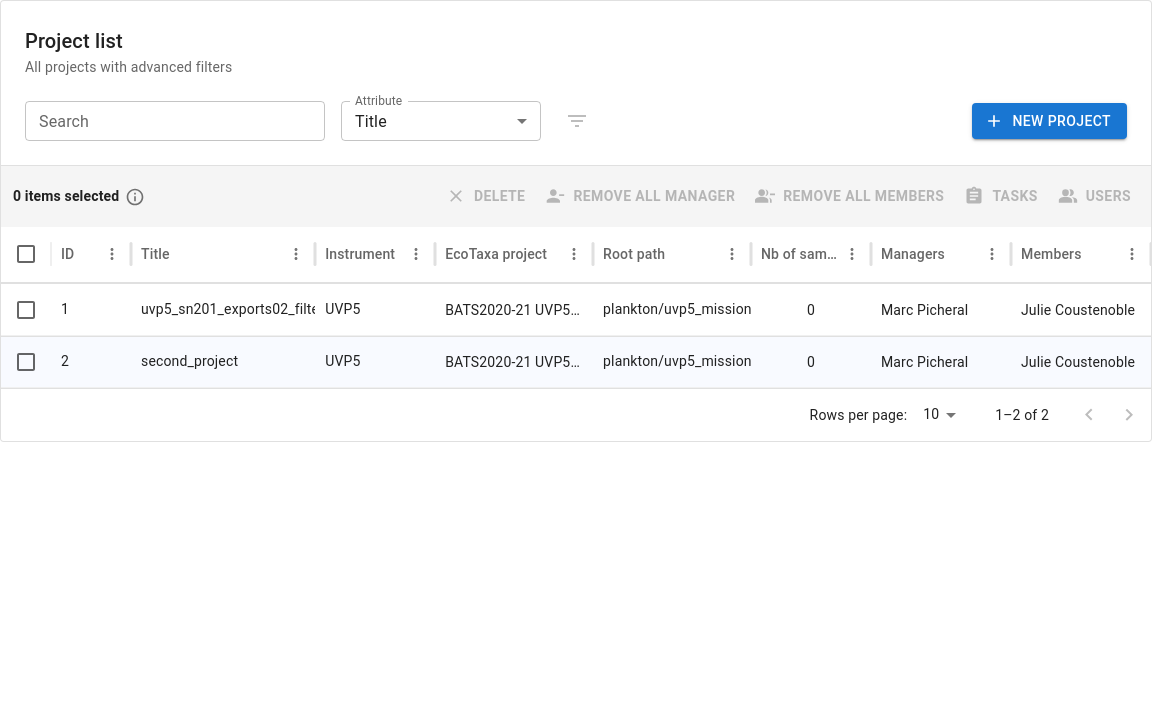
AdminProjectsTab › TC-AG8: deletes the selection after confirmation
Expected: the text "second_project" is shown, [131, 336, 315, 388]
Click the checkbox named "Select row".
click(26, 310)  # box [14, 298, 38, 322]
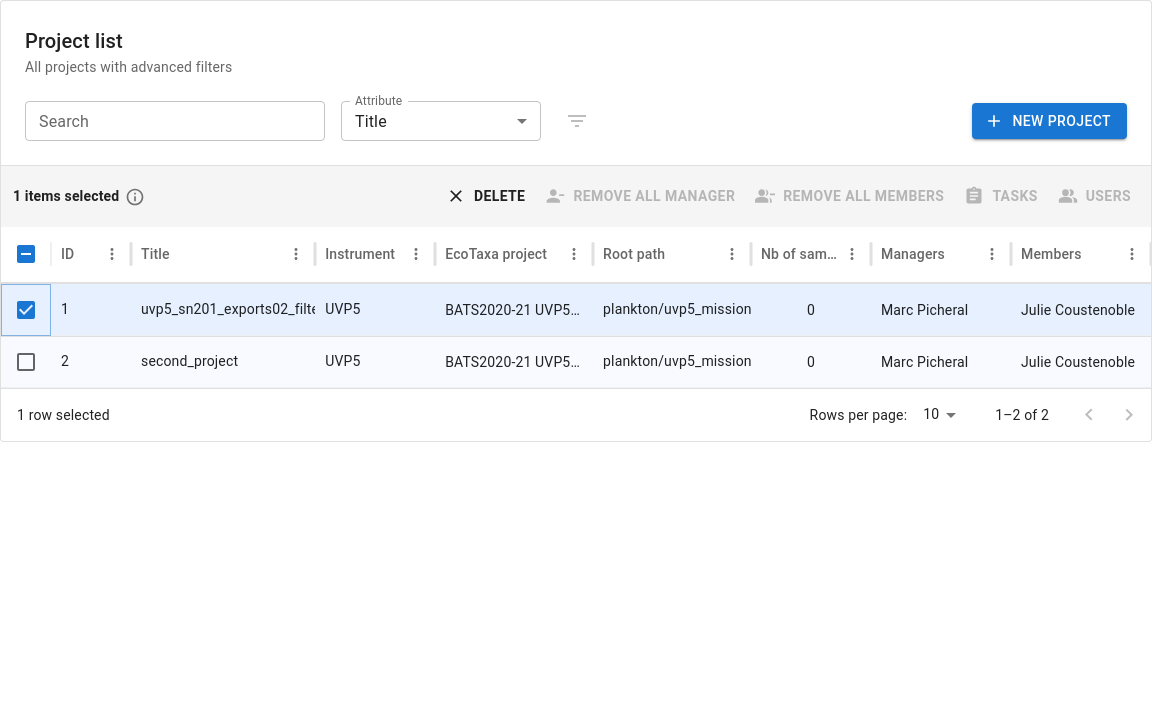
Click the checkbox named "Select row".
click(26, 362)  # box [14, 350, 38, 374]
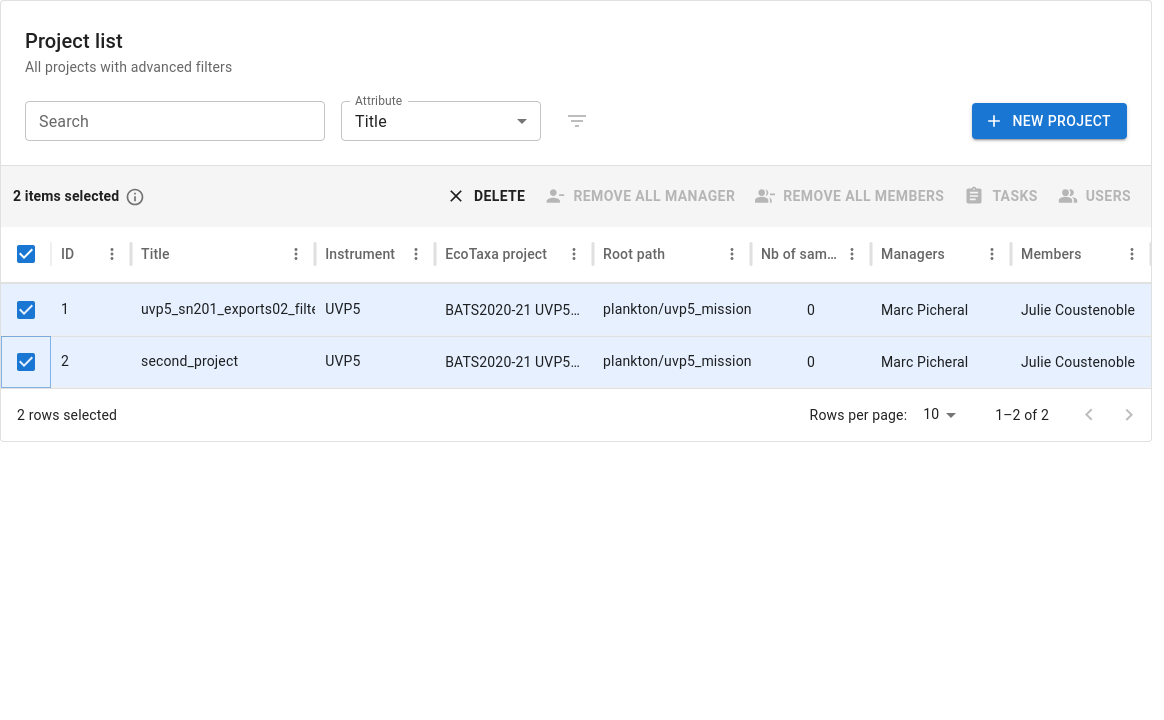
Result: the text "2 items selected" is shown at [13, 186, 145, 207]
Click the button "DELETE".
click(488, 196)  # box [442, 178, 533, 214]
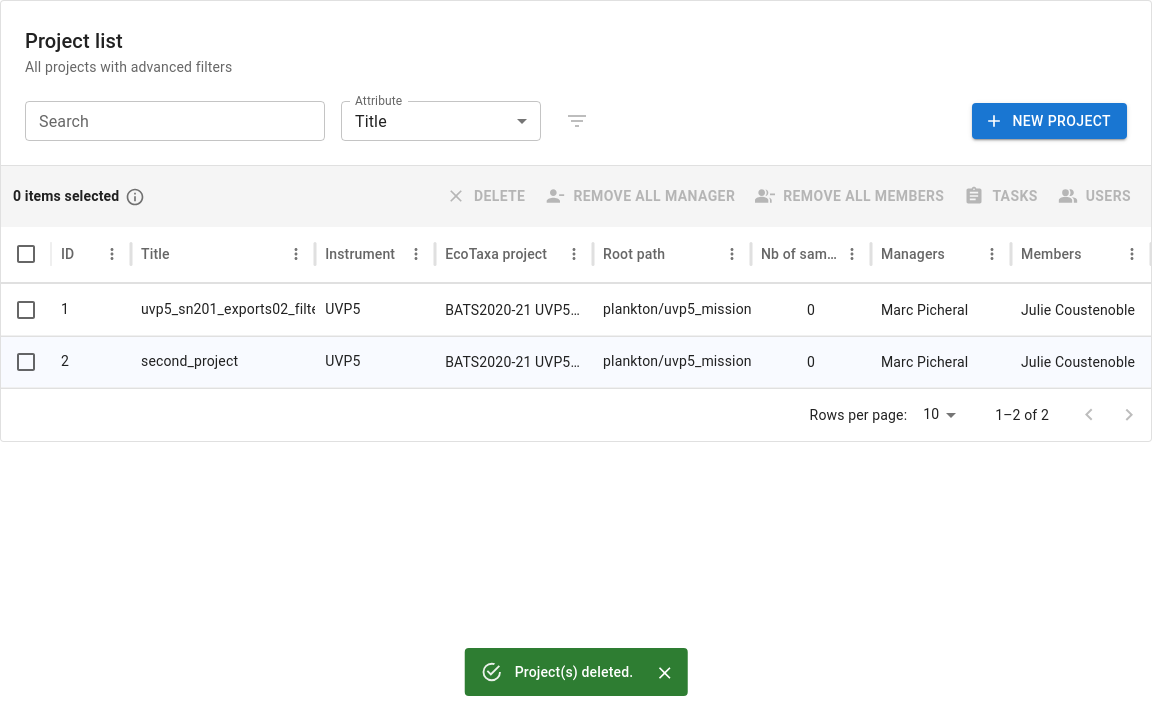
Result: the text "Project(s) deleted." is shown at [515, 664, 633, 680]
Result: the text "0 items selected" is shown at [13, 186, 145, 207]
